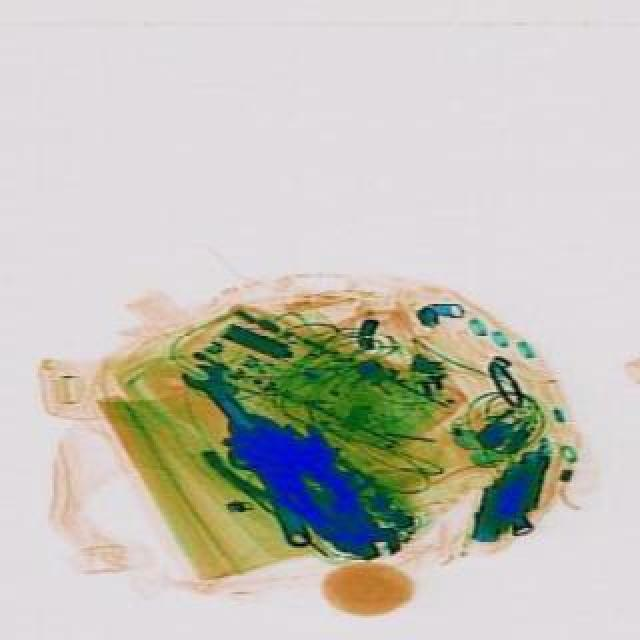scissors: (174, 352, 264, 444)
